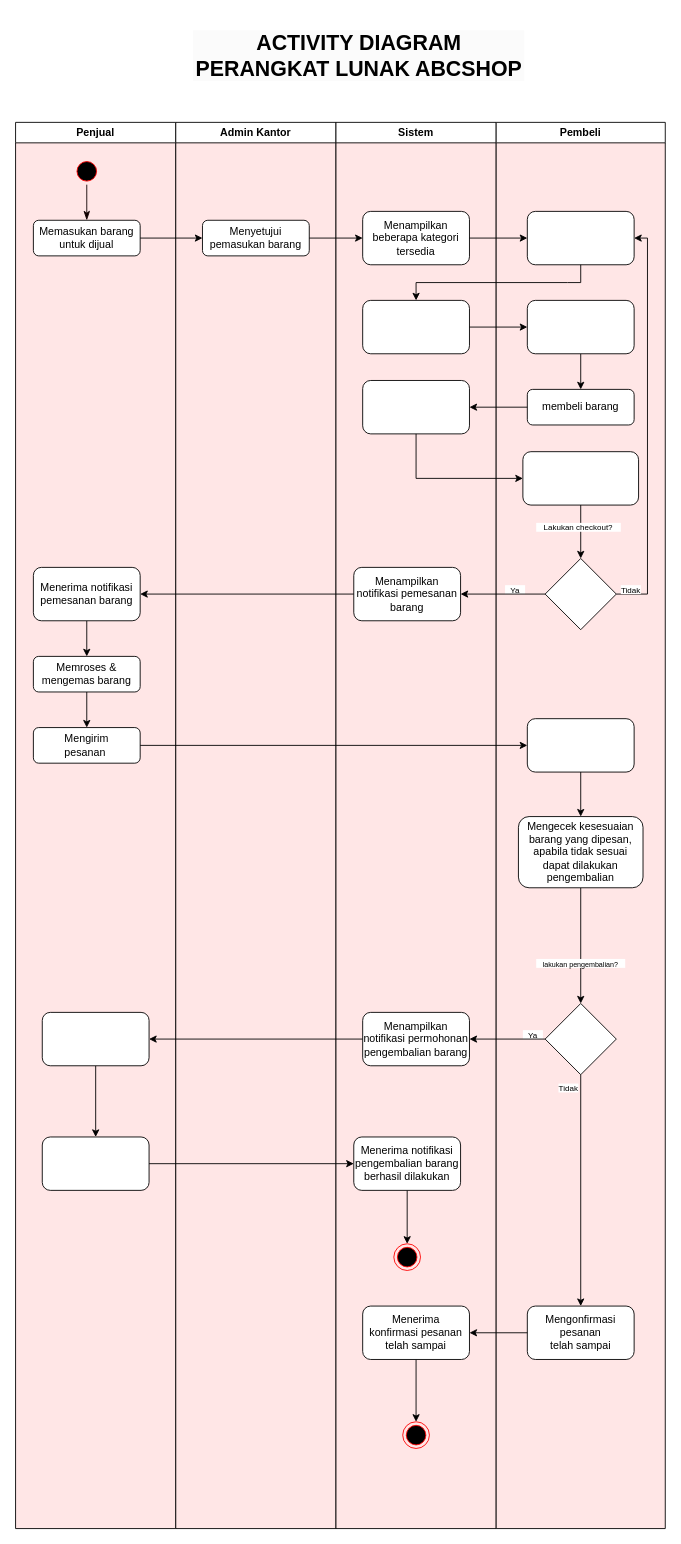
The diagram is 681 pixels wide and 1544 high, and some of its shapes have lost their labels. The shapes that lost their labels are listed below. From the top down, each one's centre as x and y in pixels, then its label:
point 580,237: Memilih kategori barang yang diinginkan
point 415,326: menampilkan barang-barang pada kategori yang dipilih
point 580,326: memilih barang yang diinginkan pada kategori yang dipilih
point 415,407: Menampilkan order summary
point 580,478: Memeriksa order summary dan memilih metode pembayaran
point 580,745: Menerima pesanan
point 95,1038: Menerima notifikasi permohonan pengembalian barang
point 95,1163: memeroses pengembalian barang dan dana (apabila metode transfer)
